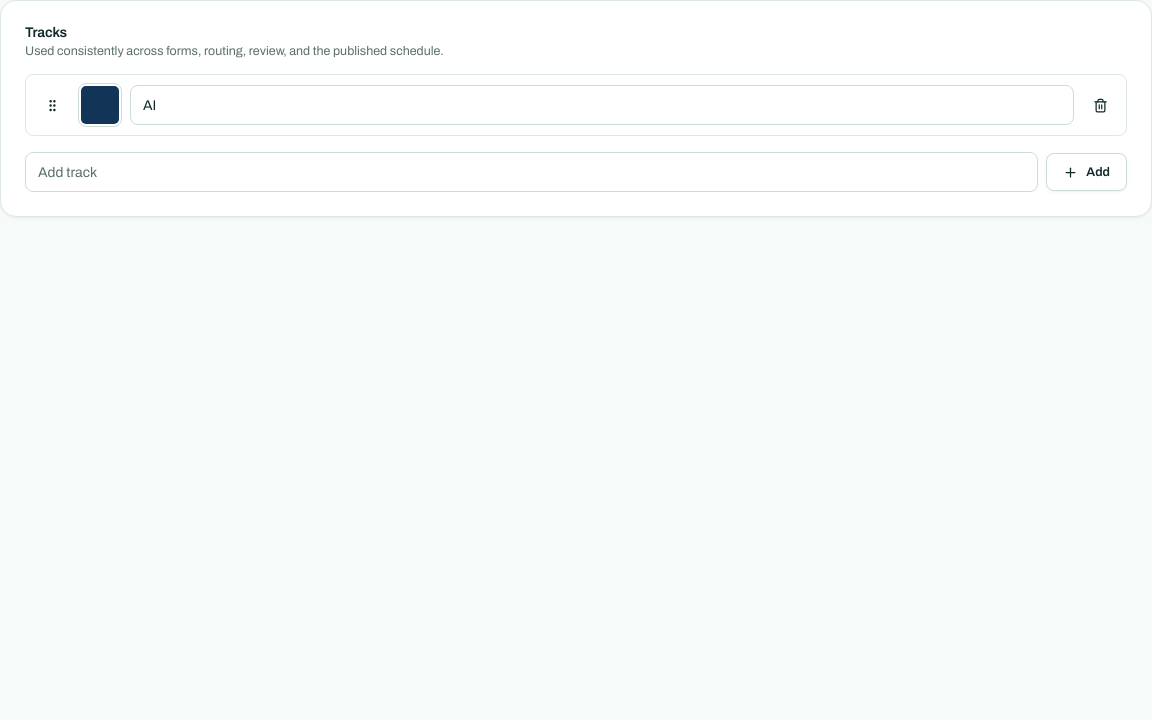
Test: vocabulary delete confirmation copy › still uses the submissions/routing copy for a track, and asks for no count
The width and height of the screenshot is (1152, 720).
Step 1. Click the button named "Remove AI" → click(1100, 105), box left=1082, top=87, right=1118, bottom=123
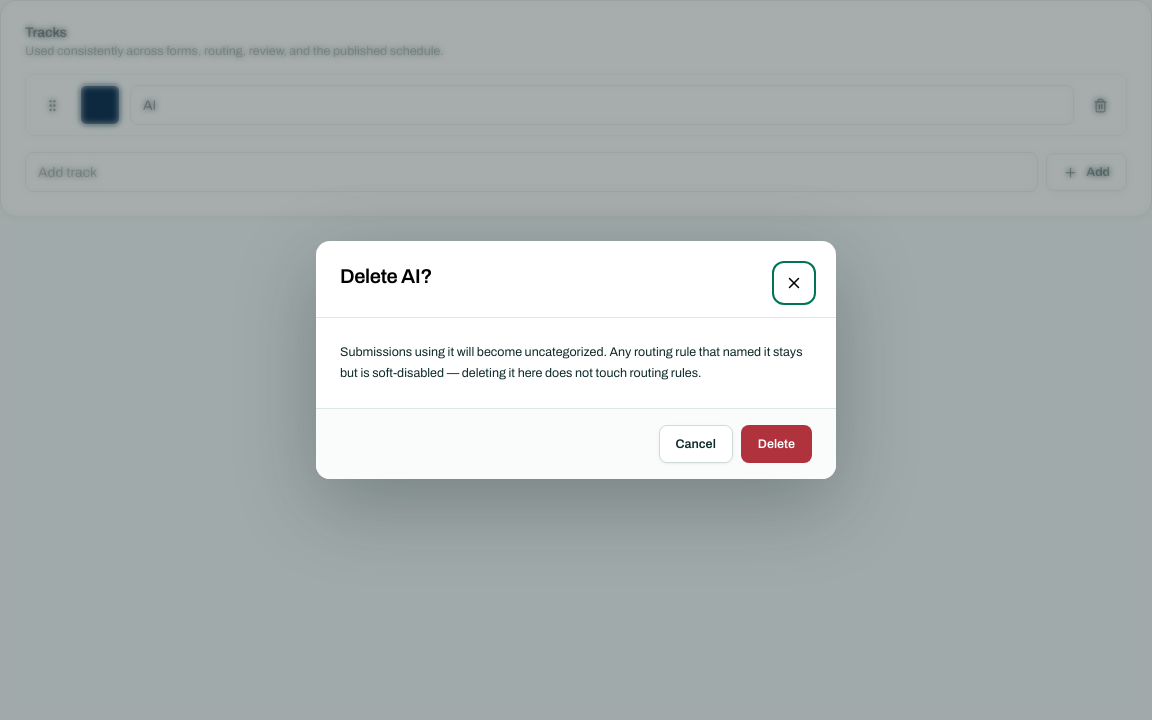
Check: the text with class "long-copy" shows "uncategorized", box left=340, top=345, right=802, bottom=380
Check: the text with class "long-copy" shows "routing rule", box left=340, top=345, right=802, bottom=380
